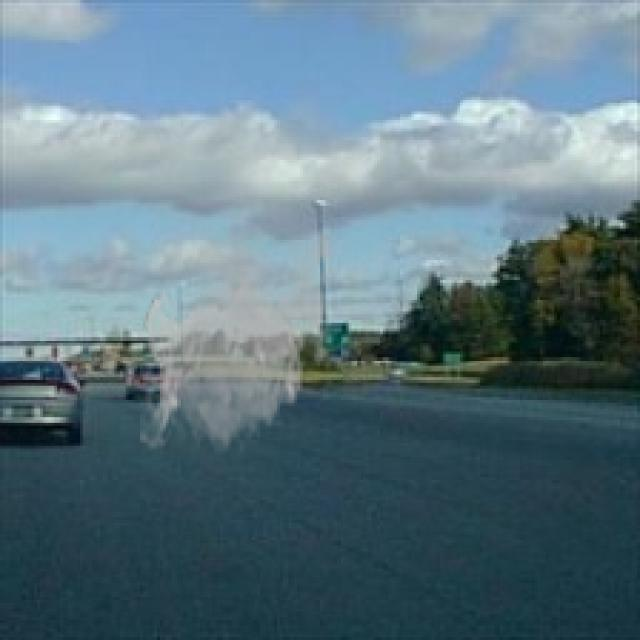Smoke: (140, 200, 340, 457)
